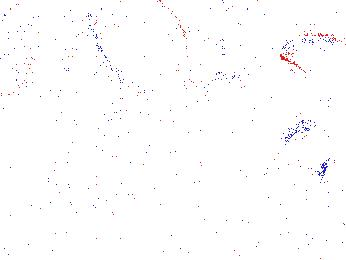moon jellyfish: (89, 1, 191, 103), (254, 129, 346, 218), (181, 2, 250, 88), (279, 33, 346, 91), (1, 1, 36, 96)
